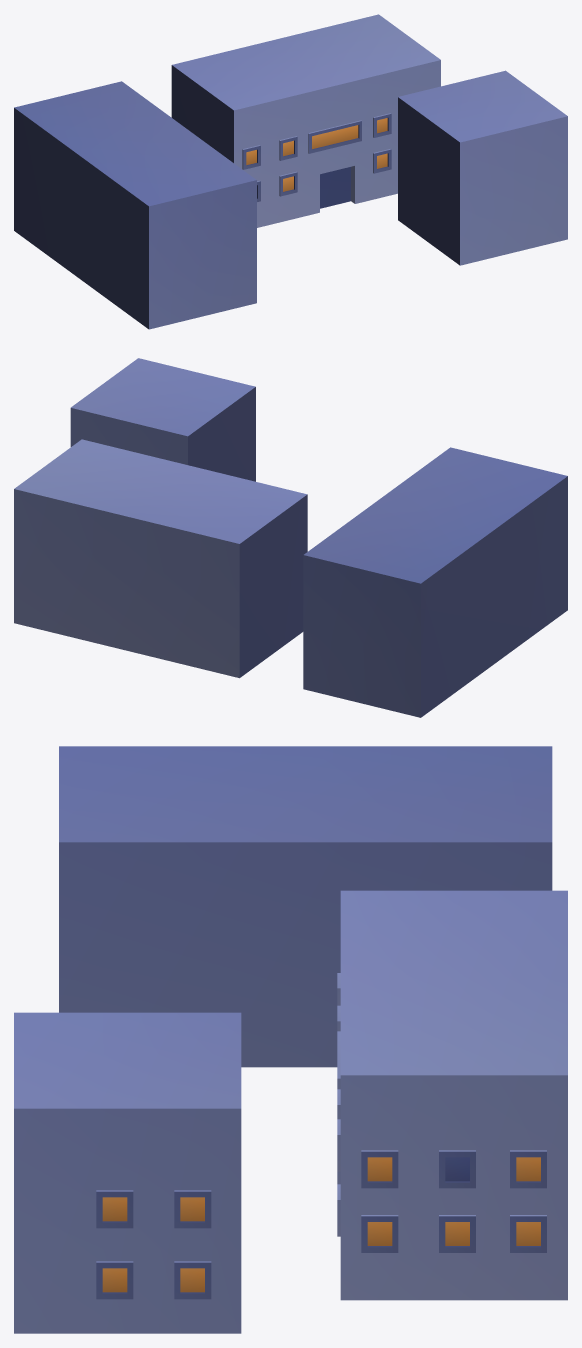
The model's file is Buildings.fbx.
3 views of the same model, one above another, from view 1: azimuth 30°, elevation 25°; view 2: azimuth 150°, elevation 25°; view 3: azimuth 270°, elevation 25° (orthographic). The views are drawn at different scales.
Visible parts, largest first — view 1: Cube.007, Cube.005, Cube.006; view 2: Cube.005, Cube.007, Cube.006; view 3: Cube.007, Cube.005, Cube.006.
Boxes of the visible parts, box(x1,y1,x2,y2) form: Cube.007: box(14, 81, 256, 329); Cube.005: box(171, 14, 440, 227); Cube.006: box(398, 70, 567, 265); Cube.005: box(14, 439, 307, 678); Cube.007: box(303, 447, 567, 717); Cube.006: box(70, 358, 255, 481); Cube.007: box(59, 746, 552, 1067); Cube.005: box(337, 890, 567, 1300); Cube.006: box(14, 1012, 241, 1333).
Size of the model in its own units: 6004 by 1731 by 3863.
